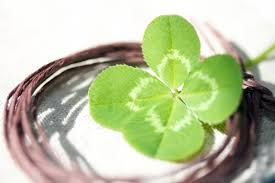4-clover: (92, 13, 241, 159)
